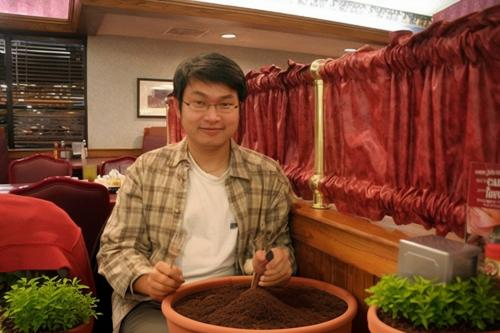bottle: (467, 243, 500, 333)
chair: (11, 177, 111, 256), (6, 156, 71, 187), (104, 153, 145, 180)
person: (97, 53, 298, 298)
person/hand: (252, 246, 295, 289), (148, 260, 184, 298)
person/head: (169, 59, 247, 151)
pottedplant: (2, 274, 500, 333)
